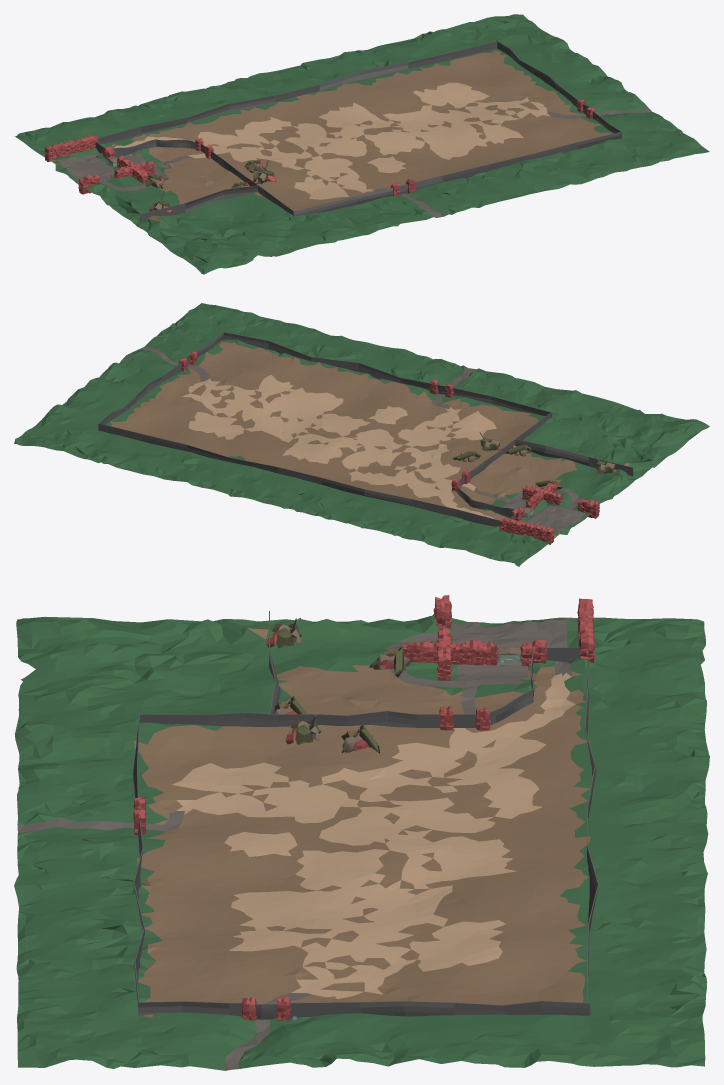
Rendered from junkyard.fbx.
The picture shows the model from 3 angles, top to bottom: view 1: azimuth 30°, elevation 25°; view 2: azimuth 150°, elevation 25°; view 3: azimuth 270°, elevation 25°; orthographic projection. The views are drawn at different scales.
Parts seen in each view (by area): view 1: junkyard_ground, pCube211, pCube210, pCube222, pCube212, pCube203, pCube213; view 2: junkyard_ground, pCube211, pCube210, pCube222, pCube212, pCube203, pCube213; view 3: junkyard_ground, pCube212, pCube213, pCube211, pCube223, pCube209, pCube210, pCube203.
Boxes of the visible parts, x1=… form: junkyard_ground: x1=14, y1=14, x2=709, y2=274; pCube211: x1=98, y1=41, x2=497, y2=143; pCube210: x1=293, y1=132, x2=620, y2=217; pCube222: x1=140, y1=185, x2=257, y2=228; pCube212: x1=496, y1=40, x2=621, y2=138; pCube203: x1=44, y1=135, x2=98, y2=161; pCube213: x1=201, y1=143, x2=294, y2=215; junkyard_ground: x1=14, y1=303, x2=709, y2=566; pCube211: x1=99, y1=423, x2=499, y2=526; pCube210: x1=223, y1=332, x2=552, y2=417; pCube222: x1=515, y1=439, x2=633, y2=476; pCube212: x1=98, y1=332, x2=223, y2=430; pCube203: x1=499, y1=516, x2=554, y2=544; pCube213: x1=459, y1=412, x2=551, y2=485; junkyard_ground: x1=14, y1=614, x2=709, y2=1070; pCube212: x1=138, y1=1001, x2=590, y2=1017; pCube213: x1=139, y1=711, x2=476, y2=727; pCube211: x1=584, y1=648, x2=598, y2=1002; pCube223: x1=402, y1=640, x2=451, y2=680; pCube209: x1=437, y1=626, x2=486, y2=665; pCube210: x1=132, y1=714, x2=144, y2=1004; pCube203: x1=577, y1=598, x2=595, y2=662.
Size of the model in its own units: 5075 by 268 by 3293.
